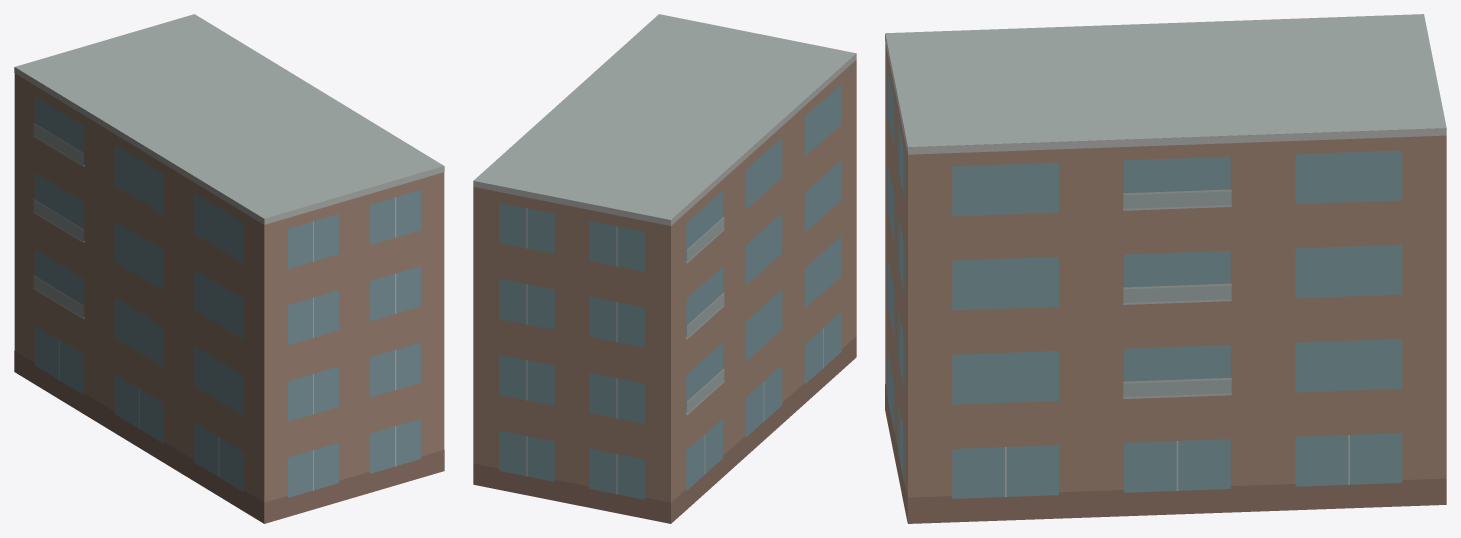
Rendered from survey-upis-32702343.glb.
3 views of the same model, side by side, from view 1: azimuth 30°, elevation 25°; view 2: azimuth 150°, elevation 25°; view 3: azimuth 270°, elevation 25° (orthographic). The views are drawn at different scales.
Visible parts, largest first — view 1: survey-upis-32702343.tmp; view 2: survey-upis-32702343.tmp; view 3: survey-upis-32702343.tmp.
Part boxes in pixels (x1,y1,x2,y2): survey-upis-32702343.tmp: (14, 14, 444, 523); survey-upis-32702343.tmp: (473, 14, 856, 523); survey-upis-32702343.tmp: (885, 14, 1446, 523).
Size of the model in its own units: 9.26 by 12.2 by 16.49.
